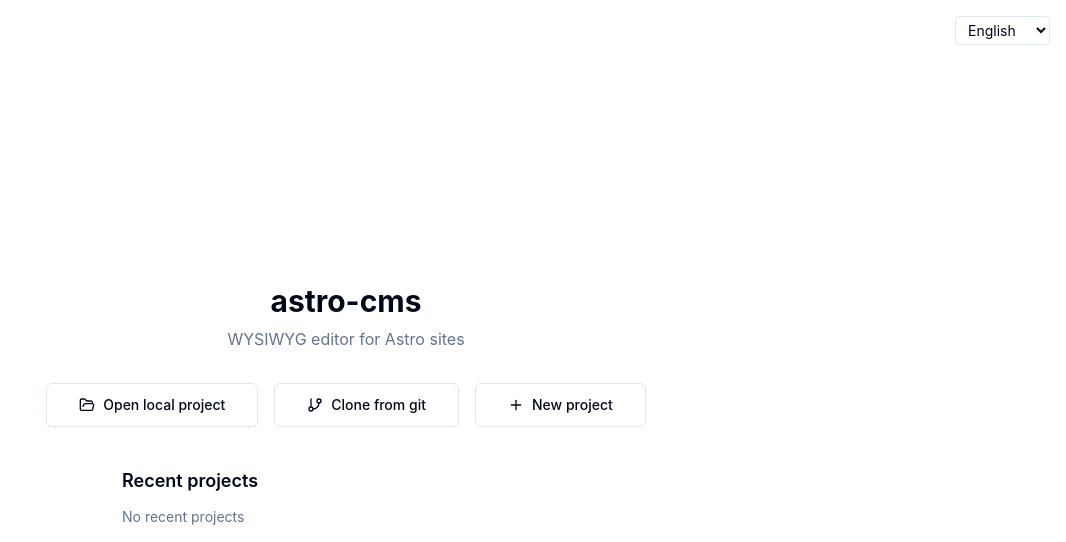
Test case: i18n › Language selector › switches from English to French
expect the button "Open local project" is shown: met, box [46, 383, 258, 427]
Select "Français" in the dropdown named "Language" at coordinates (1002, 30), box [955, 16, 1050, 45]
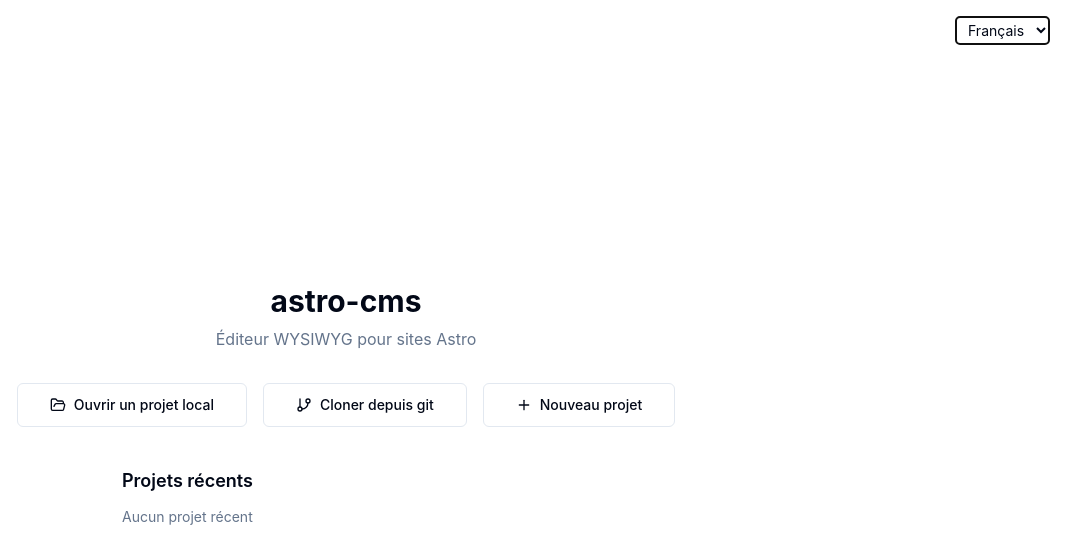
expect the button "Ouvrir un projet local" is shown: met, box [17, 383, 247, 427]
